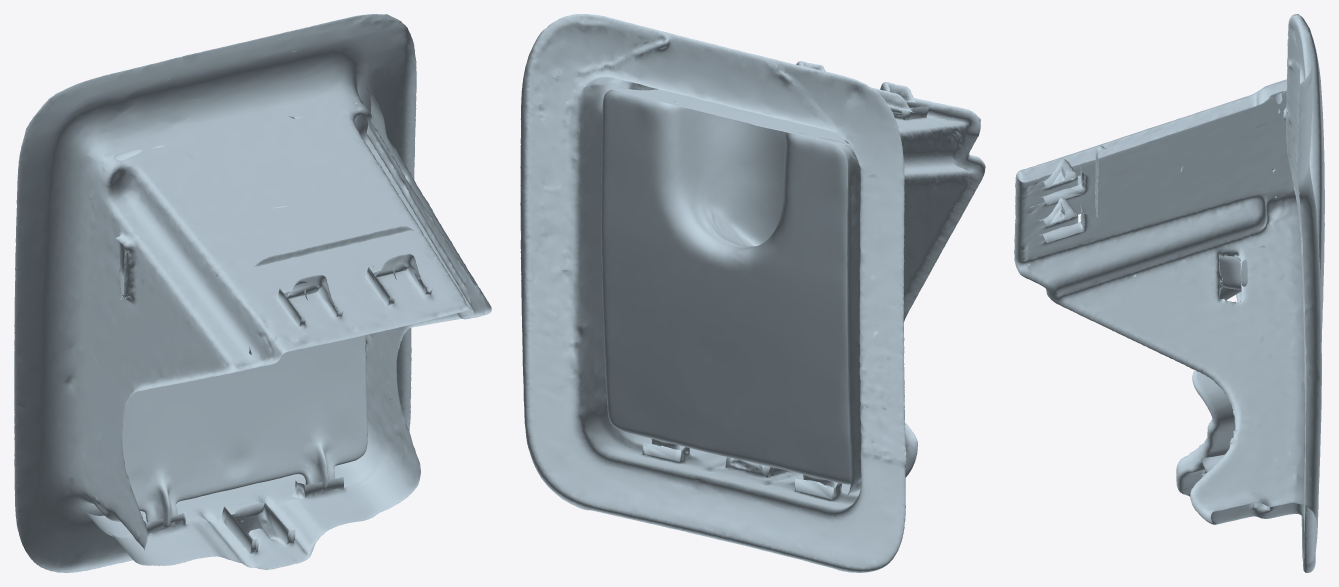
File: isofix.compressed.glb
3 views of the same model, side by side, from view 1: azimuth 30°, elevation 25°; view 2: azimuth 150°, elevation 25°; view 3: azimuth 270°, elevation 25° (orthographic). The views are drawn at different scales.
Parts seen in each view (by area): view 1: Mesh_vertices___level_8_001, Mesh_vertices___level_8_; view 2: Mesh_vertices___level_8_001, Mesh_vertices___level_8_; view 3: Mesh_vertices___level_8_001, Mesh_vertices___level_8_.
Boxes of the visible parts, box(x1,y1,x2,y2) form: Mesh_vertices___level_8_001: box(14, 14, 491, 572); Mesh_vertices___level_8_: box(113, 103, 367, 527); Mesh_vertices___level_8_001: box(520, 14, 985, 572); Mesh_vertices___level_8_: box(601, 89, 850, 487); Mesh_vertices___level_8_001: box(1014, 14, 1324, 572); Mesh_vertices___level_8_: box(1180, 93, 1282, 299).
Size of the model in its own units: 4.14 by 5 by 3.24.
